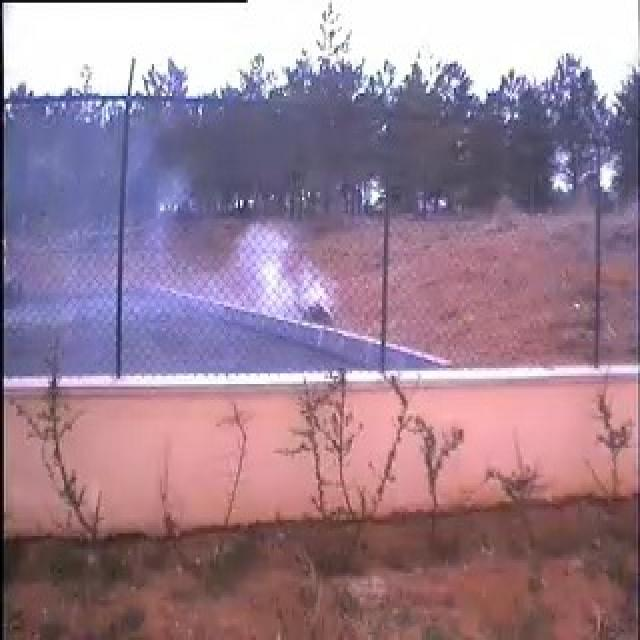smoke: (119, 126, 335, 361)
